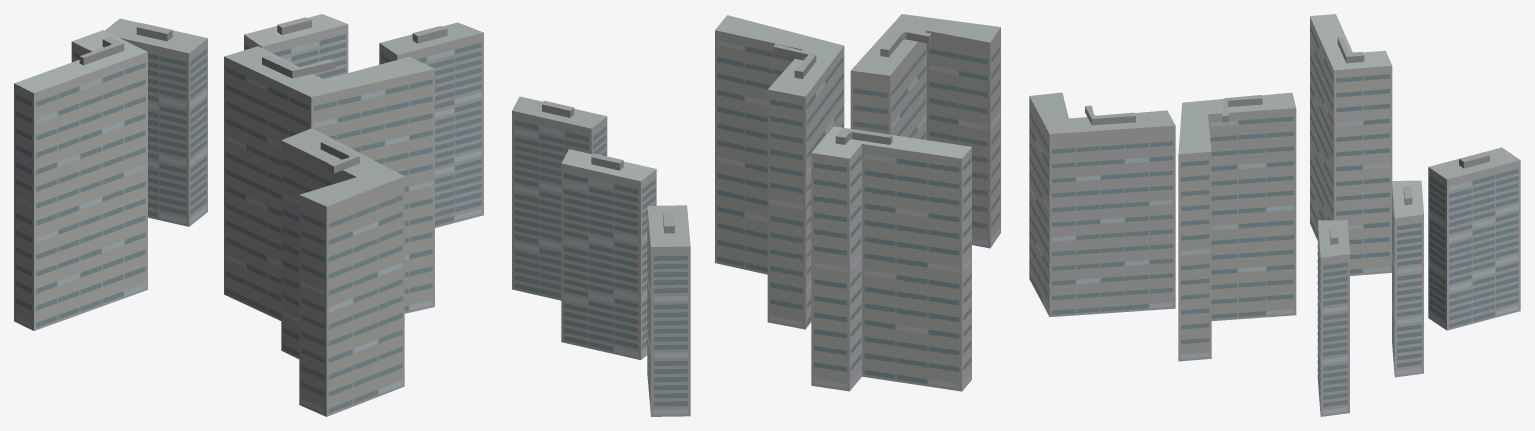
File: apt-a12106001.glb
3 renders of one model, left to right at view 1: azimuth 30°, elevation 25°; view 2: azimuth 150°, elevation 25°; view 3: azimuth 270°, elevation 25°, orthographic. The views are drawn at different scales.
Parts seen in each view (by area): view 1: apt-a12106001; view 2: apt-a12106001; view 3: apt-a12106001.
Part boxes in pixels (x1,y1,x2,y2): apt-a12106001: [14, 14, 483, 416]; apt-a12106001: [512, 14, 1000, 416]; apt-a12106001: [1029, 14, 1520, 416].
Bounding box in the file's own units: 157 × 80 × 167.
